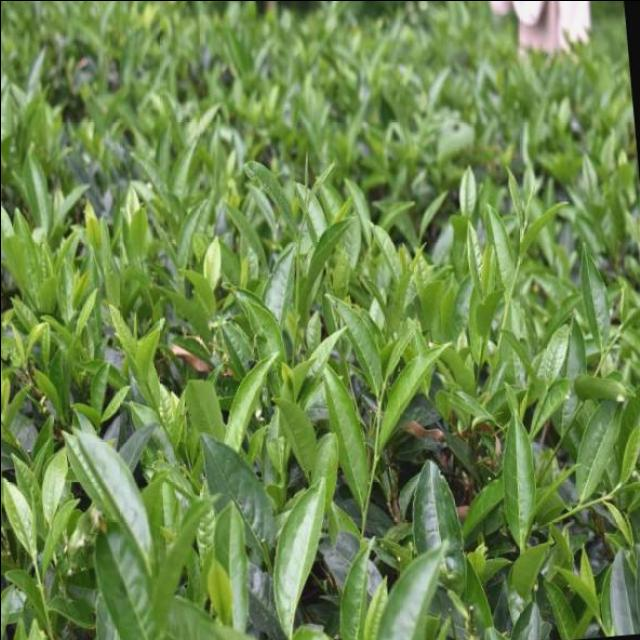Stem: (377, 401, 381, 408), (520, 227, 524, 234), (303, 205, 306, 210)
